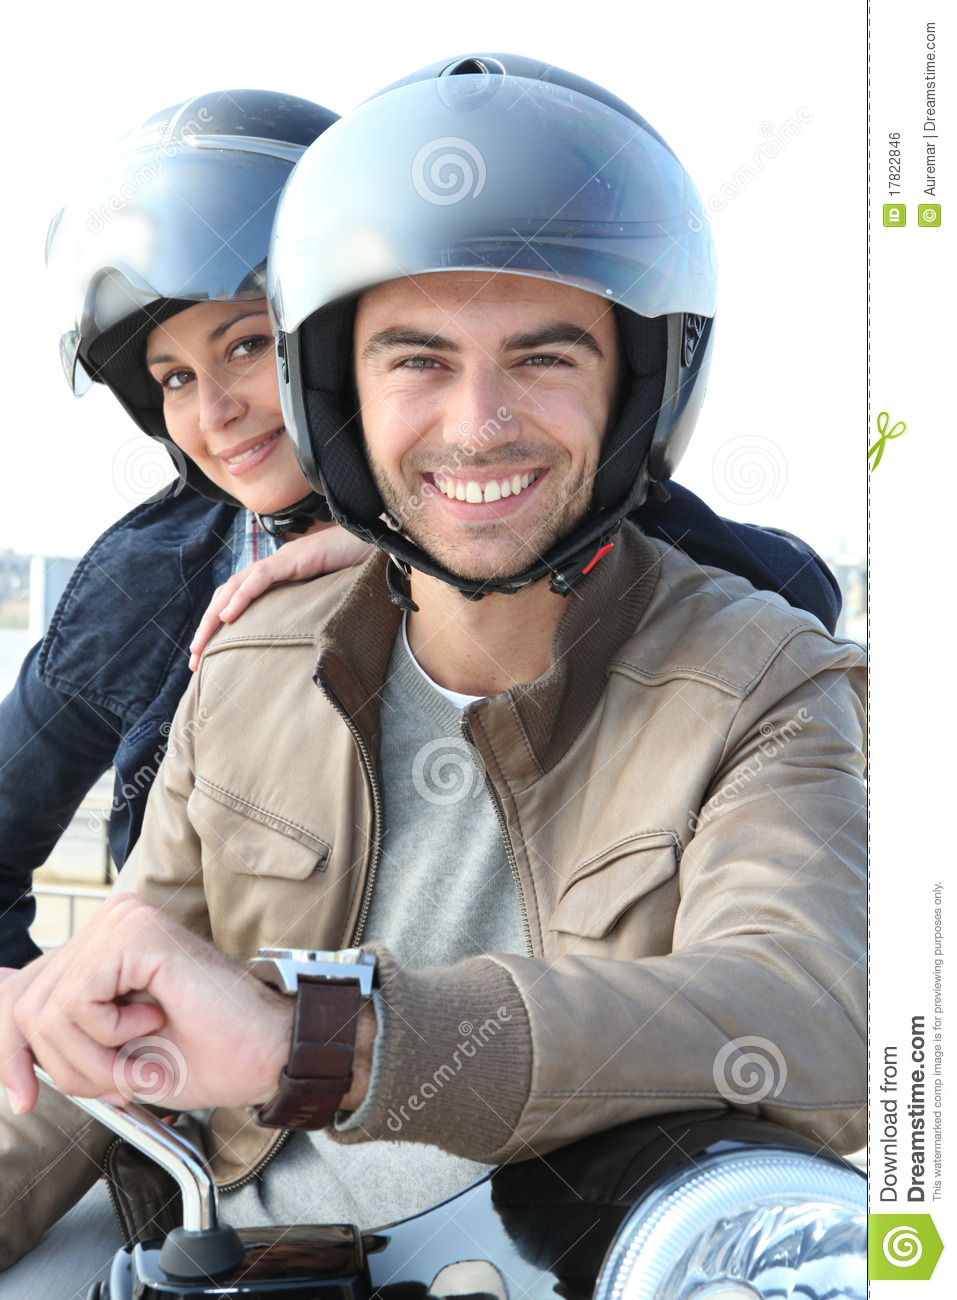helmet: (265, 53, 716, 467), (28, 85, 328, 339)
